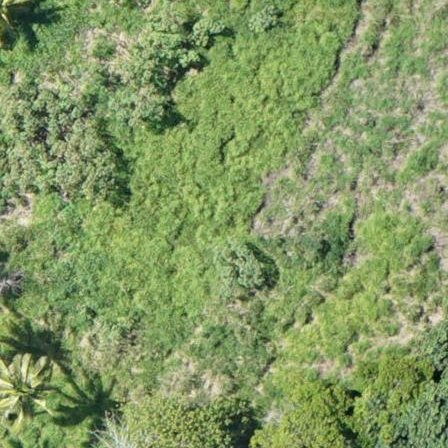palm_tree: (1, 355, 56, 431)
